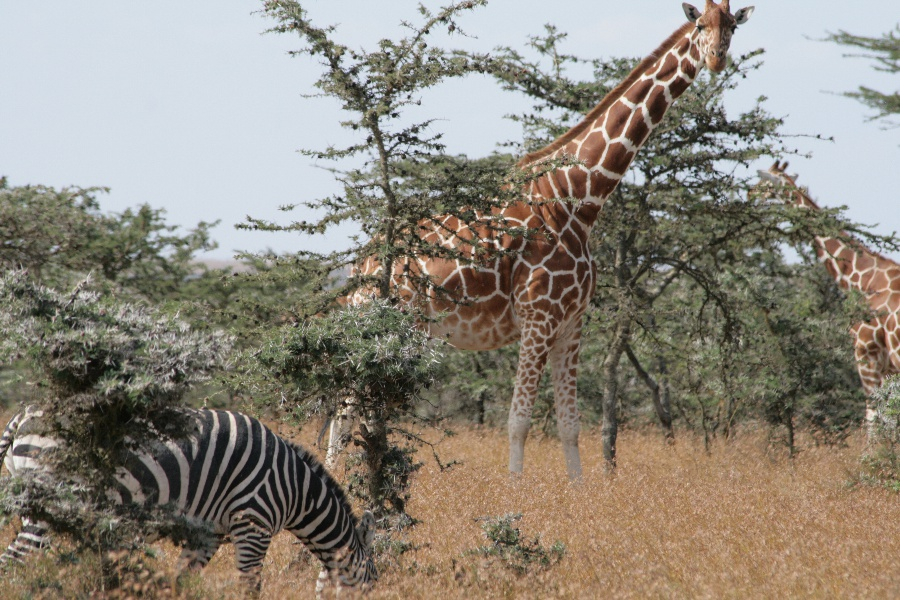giraffe: (302, 0, 747, 471), (740, 157, 899, 466)
